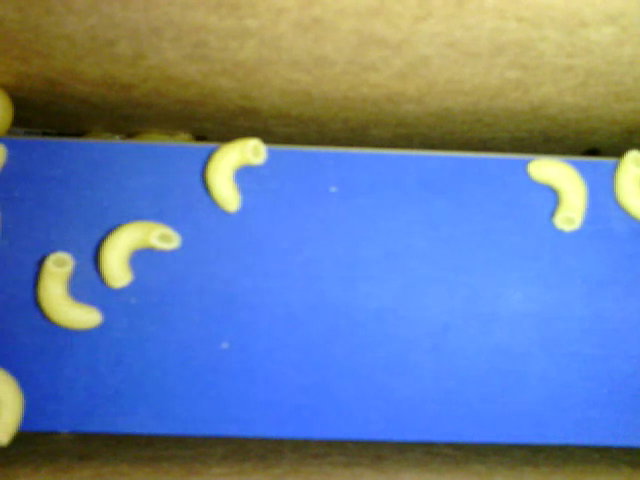elbow: (99, 220, 183, 297), (36, 253, 103, 332), (203, 134, 265, 215), (525, 156, 588, 235), (1, 367, 27, 449)
